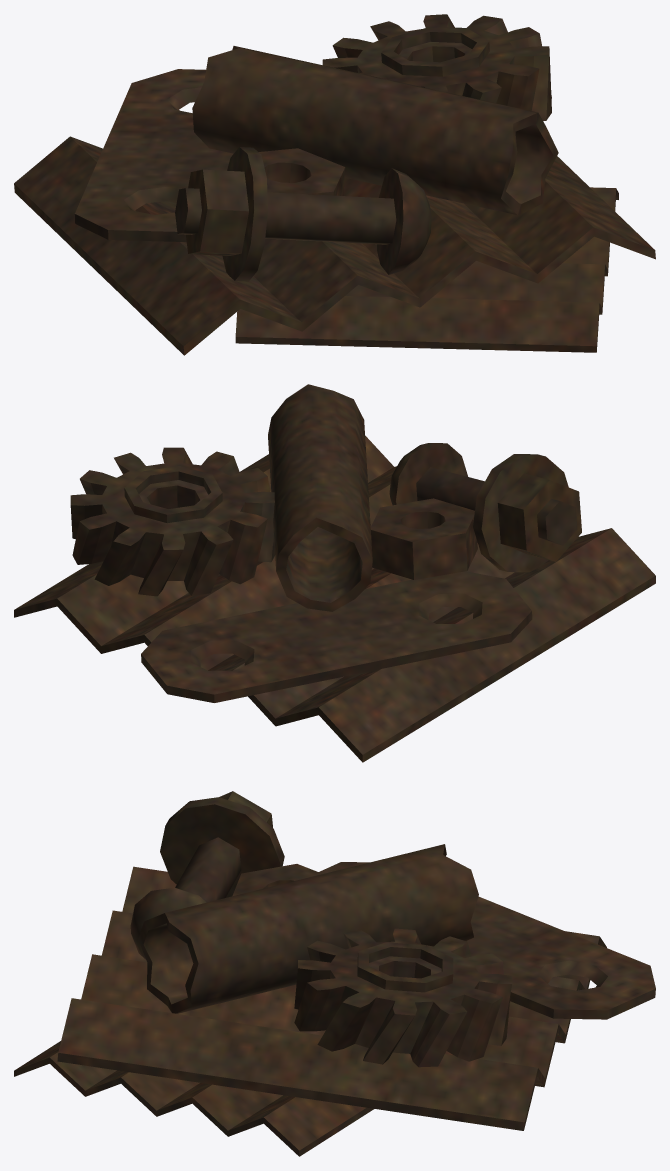
File: scrap_metal_mx_1_2.obj
The picture shows the model from 3 angles, top to bottom: view 1: azimuth 30°, elevation 25°; view 2: azimuth 150°, elevation 25°; view 3: azimuth 270°, elevation 25°; orthographic projection. The views are drawn at different scales.
Parts seen in each view (by area): view 1: scrap_metal_mx_1_2; view 2: scrap_metal_mx_1_2; view 3: scrap_metal_mx_1_2.
Part boxes in pixels (left/top/right/bottom): scrap_metal_mx_1_2: left=14, top=14, right=655, bottom=355; scrap_metal_mx_1_2: left=14, top=384, right=655, bottom=762; scrap_metal_mx_1_2: left=14, top=791, right=655, bottom=1156.
Bounding box in the file's own units: 0.3174 × 0.106 × 0.3591.
